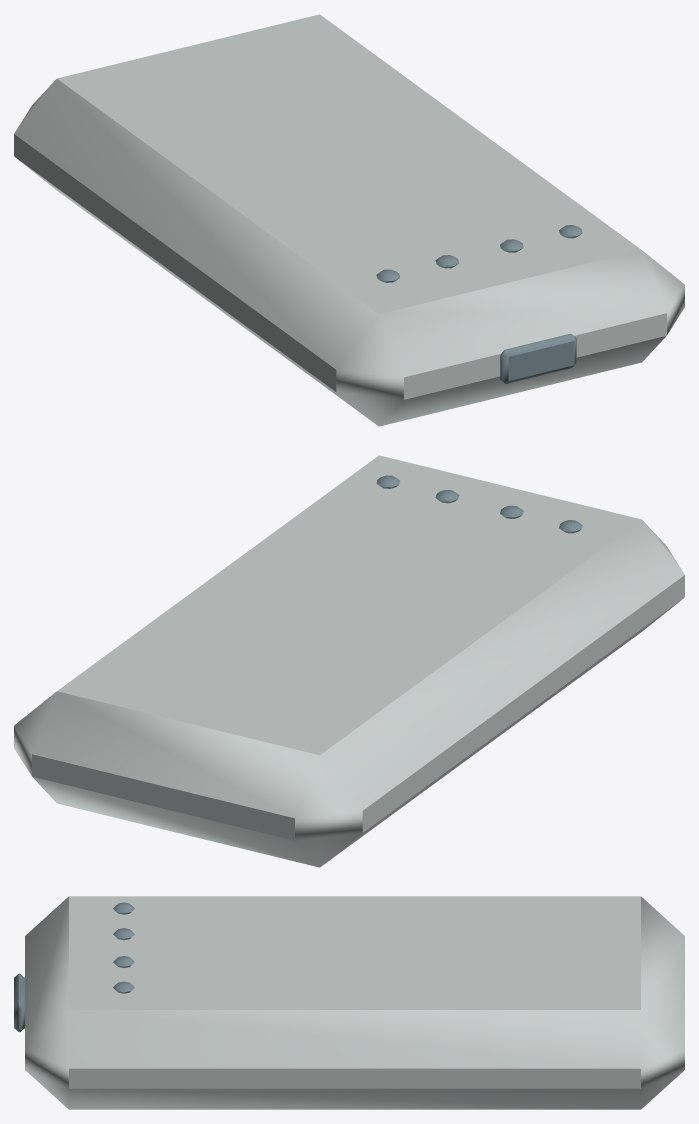
The model's file is power-bank.glb.
The picture shows the model from 3 angles, top to bottom: view 1: azimuth 30°, elevation 25°; view 2: azimuth 150°, elevation 25°; view 3: azimuth 270°, elevation 25°; orthographic projection. The views are drawn at different scales.
Visible parts, largest first — view 1: battery_pack, usb_port; view 2: battery_pack; view 3: battery_pack, usb_port.
Boxes of the visible parts, x1,y1,x2,y2 form: battery_pack: (14,14,684,426); usb_port: (500,333,576,383); battery_pack: (14,455,684,867); battery_pack: (25,896,684,1109); usb_port: (14,973,24,1032).
Size of the model in its own units: 0.065 by 0.0218 by 0.122.
